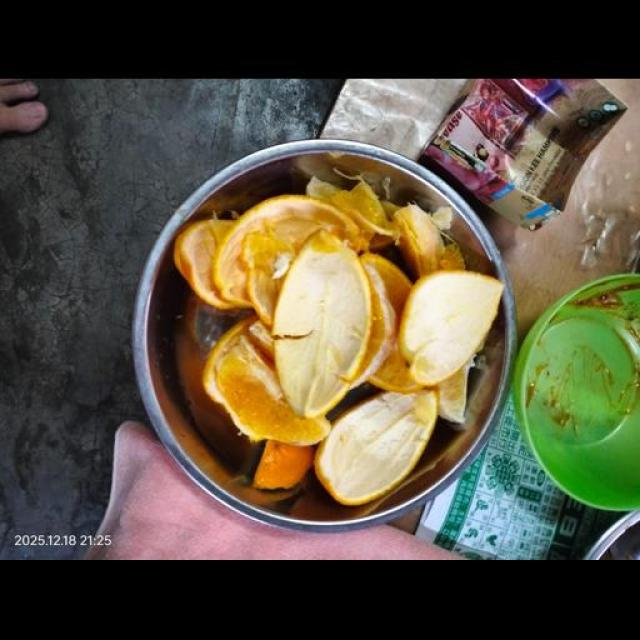organic: (20, 83, 528, 581), (514, 275, 639, 511)
